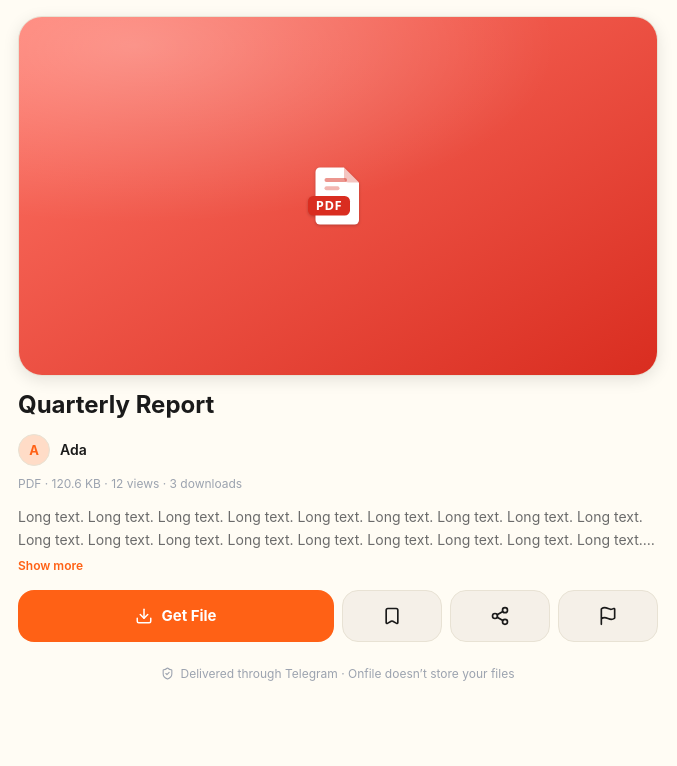
Test case: standalone file mode — presentation › a missing description renders nothing; a long one expands and collapses
Click the button with test id "description" at (338, 541), box [18, 506, 658, 576]
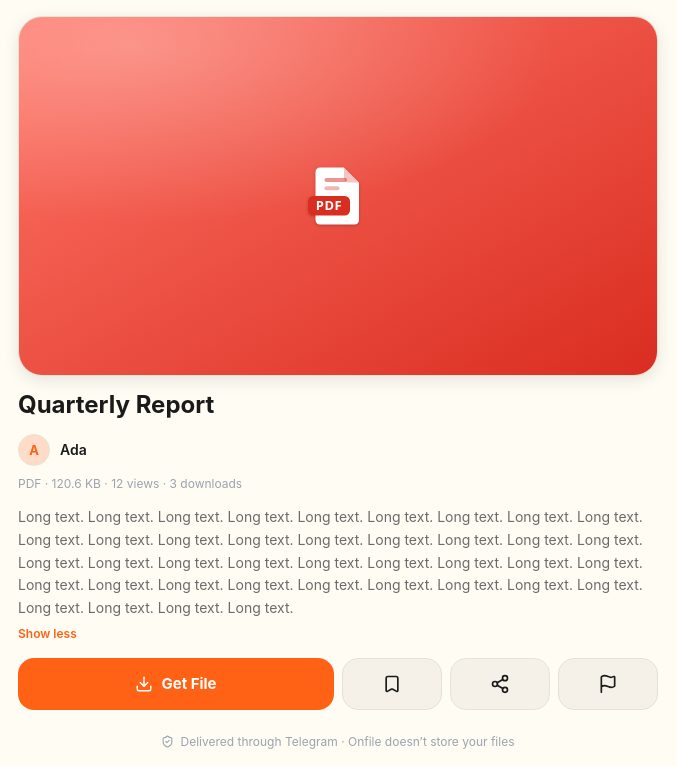
Check: the button with test id "description" is expanded
Click the button with test id "description" at (338, 575), box [18, 506, 658, 644]
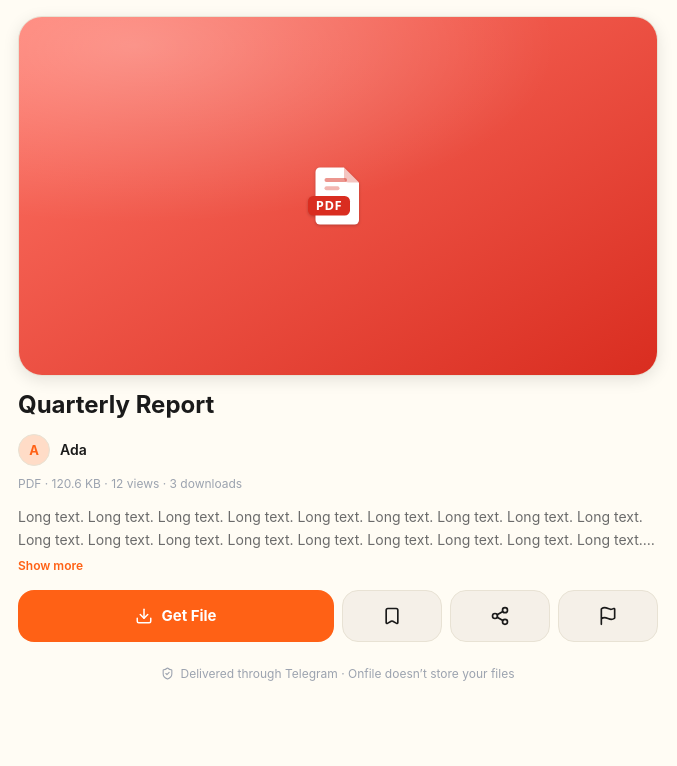
Check: the button with test id "description" is collapsed, box [18, 506, 658, 576]
